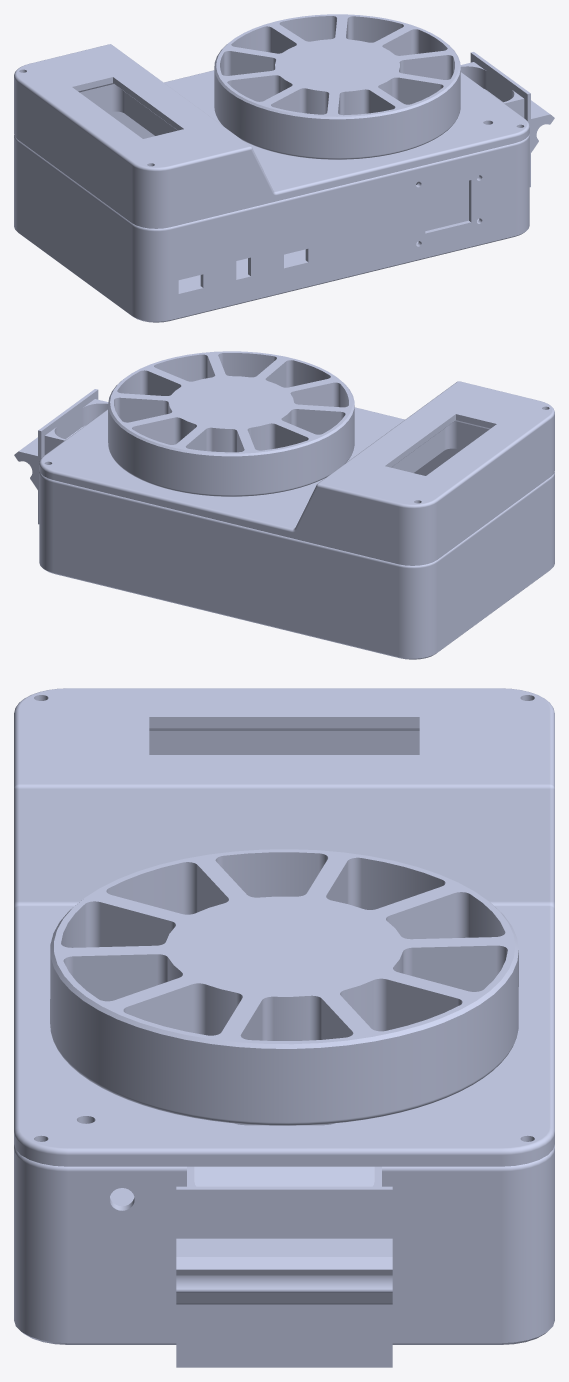
The model's file is carebox_3d.glb.
The picture shows the model from 3 angles, top to bottom: view 1: azimuth 30°, elevation 25°; view 2: azimuth 150°, elevation 25°; view 3: azimuth 270°, elevation 25°; orthographic projection. The views are drawn at different scales.
Visible parts, largest first — view 1: Base_REV-1, Modulo_REV-1, Divisoria-1, Gaveta_REV-1; view 2: Base_REV-1, Modulo_REV-1, Divisoria-1, Gaveta_REV-1; view 3: Modulo_REV-1, Divisoria-1, Base_REV-1, Gaveta_REV-1.
Part boxes in pixels (x1=…): Base_REV-1: x1=14, y1=111, x2=529, y2=322; Modulo_REV-1: x1=14, y1=44, x2=529, y2=228; Divisoria-1: x1=214, y1=14, x2=460, y2=159; Gaveta_REV-1: x1=416, y1=52, x2=554, y2=187; Base_REV-1: x1=39, y1=448, x2=554, y2=659; Modulo_REV-1: x1=39, y1=381, x2=554, y2=565; Divisoria-1: x1=108, y1=351, x2=354, y2=496; Gaveta_REV-1: x1=14, y1=389, x2=108, y2=524; Modulo_REV-1: x1=14, y1=688, x2=554, y2=1166; Divisoria-1: x1=50, y1=849, x2=518, y2=1125; Base_REV-1: x1=14, y1=1144, x2=554, y2=1344; Gaveta_REV-1: x1=176, y1=1123, x2=392, y2=1367.
Size of the model in its own units: 0.275 by 0.09 by 0.15.
